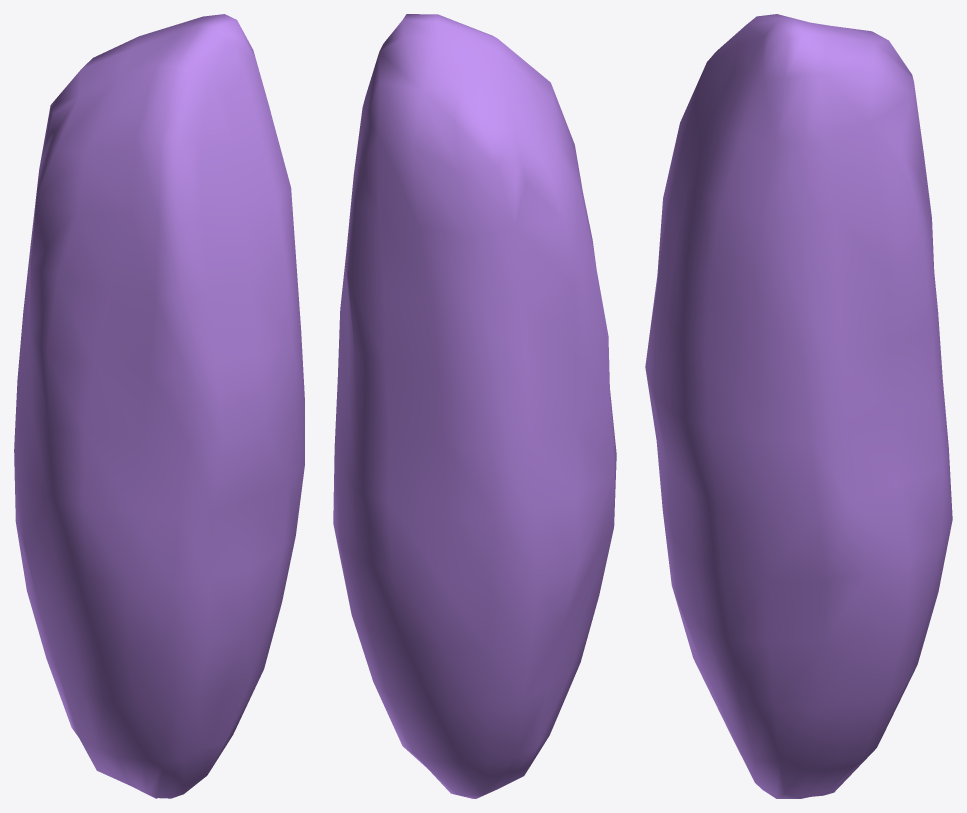
The model's file is Big_Crystal3.fbx.
The picture shows the model from 3 angles, left to right: view 1: azimuth 30°, elevation 25°; view 2: azimuth 150°, elevation 25°; view 3: azimuth 270°, elevation 25°; orthographic projection. The views are drawn at different scales.
Visible parts, largest first — view 1: Crystal; view 2: Crystal; view 3: Crystal.
Boxes of the visible parts, x1=… form: Crystal: x1=14, y1=14, x2=304, y2=798; Crystal: x1=333, y1=14, x2=616, y2=798; Crystal: x1=645, y1=14, x2=952, y2=798.
Size of the model in its own units: 1.88 by 5.4 by 1.88.
